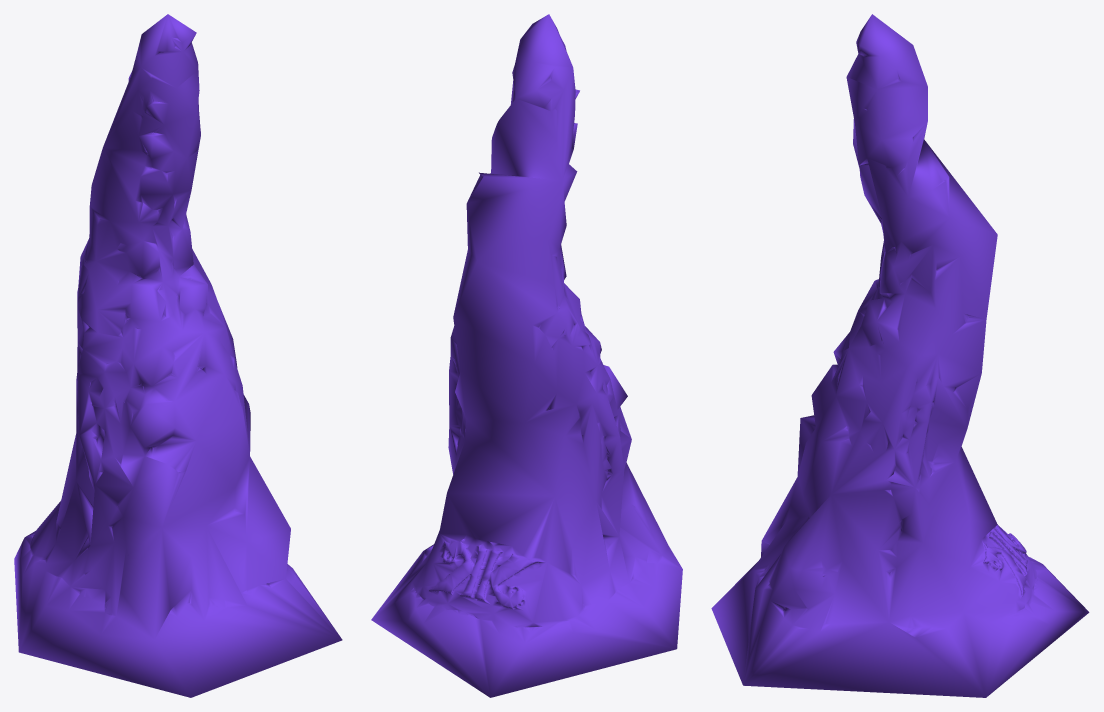
File: small-flat-ar.glb
The picture shows the model from 3 angles, left to right: view 1: azimuth 30°, elevation 25°; view 2: azimuth 150°, elevation 25°; view 3: azimuth 270°, elevation 25°; orthographic projection. The views are drawn at different scales.
Size of the model in its own units: 0.1094 by 0.2399 by 0.1321.
